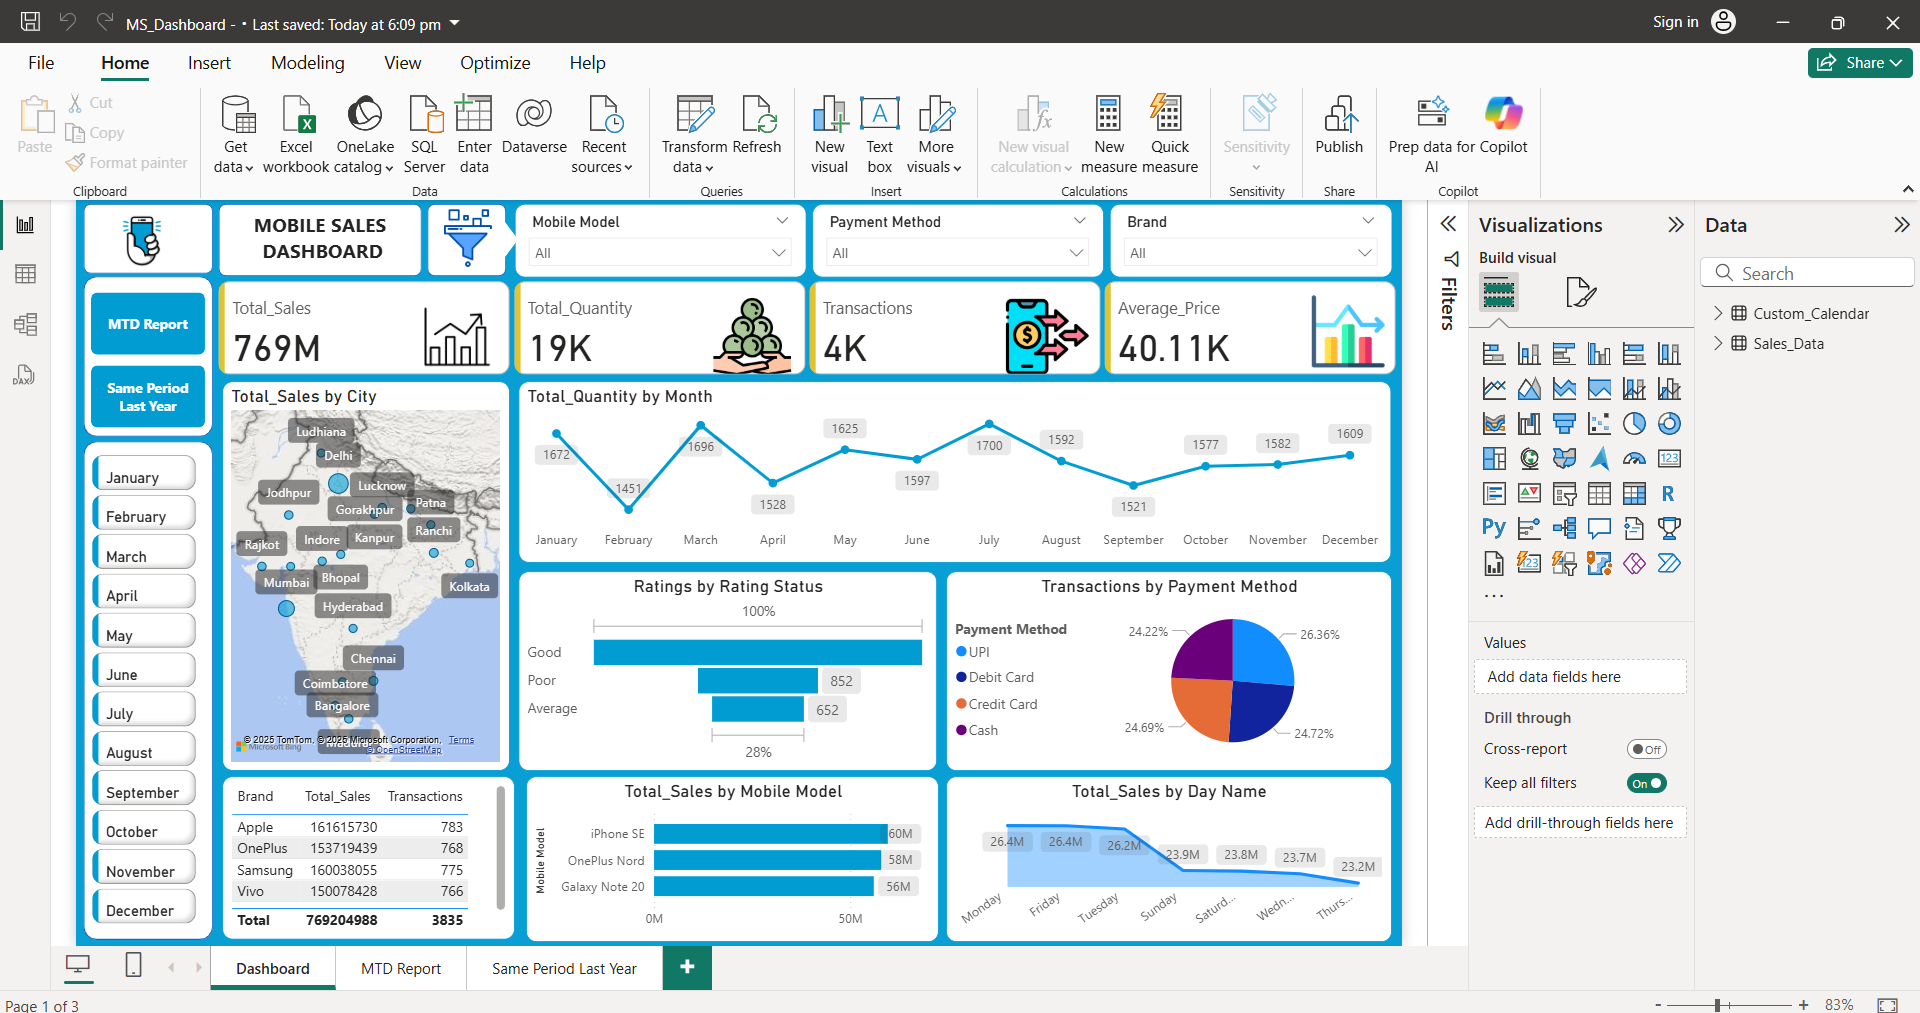

This screenshot's page, from the dashboard's own definition file:
{"tool":"powerbi","page":{"name":"Dashboard","canvas":[1280,720],"ordinal":0},"visuals":[{"type":"shape","box":[8.4,8.4,118.2,72.4],"z":1000},{"type":"image","box":[16.9,0,95.3,98.9],"z":2000},{"type":"card","title":"Total Quantity","fields":{"Values":["Sum(sales_Data.Units Sold)"]},"box":[375.2,92.9,264.2,118.2],"z":2500},{"type":"shape","box":[3.6,241.3,123.1,469.3],"z":3000},{"type":"advancedSlicerVisual","fields":{"Values":["Query1.Date.Variation.Date Hierarchy.Month"]},"box":[8.4,246.1,118.2,464.5],"z":4000},{"type":"card","title":"Total Sales","fields":{"Values":["sales_Data.Total Sales"]},"box":[137.5,92.9,229.2,118.2],"z":5000},{"type":"card","title":"Transactions","fields":{"Values":["sales_Data.transactions"]},"box":[647.9,92.9,292,118.2],"z":6000},{"type":"card","title":"Average price","fields":{"Values":["Avg(sales_Data.Price Per Unit)"]},"box":[950.7,92.9,320.9,118.2],"z":7000},{"type":"image","box":[298,92.9,59.1,49.5],"z":8000},{"type":"slicer","fields":{"Values":["sales_Data.Mobile Model"]},"box":[424.7,10.9,246.1,74.8],"z":9000},{"type":"slicer","fields":{"Values":["sales_Data.Payment Method"]},"box":[679.2,12.1,279.9,76],"z":10000},{"type":"slicer","fields":{"Values":["sales_Data.Brand"]},"box":[967.6,12.1,304,76],"z":11000},{"type":"shape","box":[342.6,6,66.4,77.2],"z":12000},{"type":"image","box":[348.7,16.9,60.3,61.5],"z":13000},{"type":"shape","box":[406.6,29,18.1,39.8],"z":14000},{"type":"shape","box":[137.5,6,201.5,79.6],"z":15000},{"type":"textbox","box":[155.6,10.9,167.7,71.2],"z":16000},{"type":"map","fields":{"Category":["sales_Data.City"],"Size":["sales_Data.Total Sales"]},"box":[137.5,225,230,292.5],"z":17000},{"type":"lineChart","fields":{"Category":["Query1.Date.Variation.Date Hierarchy.Month"],"Y":["sales_Data.Measure 2"]},"box":[372.8,224.4,898.8,153.2],"z":18000},{"type":"funnel","title":"Ratings by rating Status","fields":{"Category":["sales_Data.Rating Status","sales_Data.Customer Ratings"],"Y":["CountNonNull(sales_Data.Customer Ratings)"]},"box":[375,386.2,433.8,155],"z":19000},{"type":"pieChart","title":" Transaction  by Payment Method","fields":{"Category":["sales_Data.Payment Method"],"Y":["CountNonNull(sales_Data.Transaction ID)"]},"box":[817.5,386.2,453.8,155],"z":20000},{"type":"clusteredBarChart","fields":{"Y":["sales_Data.Total Sales"],"Category":["sales_Data.Mobile Model"]},"box":[323.8,550,441.2,160],"z":21000},{"type":"areaChart","fields":{"Category":["Query1.Day name"],"Y":["sales_Data.Total Sales"]},"box":[783.8,550,488.8,160],"z":22000},{"type":"tableEx","fields":{"Values":["sales_Data.Brand","sales_Data.Total Sales"]},"box":[137.5,526.2,177.5,183.8],"z":23000},{"type":"shape","box":[3.6,88.1,123.1,153.2],"z":25000},{"type":"pageNavigator","box":[16.9,98.9,95.3,131.5],"z":26000},{"type":"image","box":[567,92.9,72.4,59.1],"z":27000},{"type":"image","box":[853,92.9,72.4,65.1],"z":27001},{"type":"image","box":[1199.2,92.9,55.5,49.5],"z":27002}]}

Visuals, with their boxes on the page's 1280x720 design canvas (x1, y1, x2, y2). These are canvas units, not pixel positions in the 1920x1013 screenshot, which may show the page scaled, cropped or inside an application window:
shape: box(8, 8, 127, 81)
image: box(17, 0, 112, 99)
"Total Quantity" card: box(375, 93, 639, 211)
shape: box(4, 241, 127, 711)
advancedSlicerVisual - Query1.Date.Variation.Date Hierarchy.Month: box(8, 246, 127, 711)
"Total Sales" card: box(138, 93, 367, 211)
"Transactions" card: box(648, 93, 940, 211)
"Average price" card: box(951, 93, 1272, 211)
image: box(298, 93, 357, 142)
slicer - sales_Data.Mobile Model: box(425, 11, 671, 86)
slicer - sales_Data.Payment Method: box(679, 12, 959, 88)
slicer - sales_Data.Brand: box(968, 12, 1272, 88)
shape: box(343, 6, 409, 83)
image: box(349, 17, 409, 78)
shape: box(407, 29, 425, 69)
shape: box(138, 6, 339, 86)
textbox: box(156, 11, 323, 82)
map - sales_Data.City x sales_Data.Total Sales: box(138, 225, 368, 518)
lineChart - Query1.Date.Variation.Date Hierarchy.Month x sales_Data.Measure 2: box(373, 224, 1272, 378)
"Ratings by rating Status" funnel: box(375, 386, 809, 541)
" Transaction  by Payment Method" pieChart: box(818, 386, 1271, 541)
clusteredBarChart - sales_Data.Total Sales x sales_Data.Mobile Model: box(324, 550, 765, 710)
areaChart - Query1.Day name x sales_Data.Total Sales: box(784, 550, 1273, 710)
tableEx - sales_Data.Brand x sales_Data.Total Sales: box(138, 526, 315, 710)
shape: box(4, 88, 127, 241)
pageNavigator: box(17, 99, 112, 230)
image: box(567, 93, 639, 152)
image: box(853, 93, 925, 158)
image: box(1199, 93, 1255, 142)
